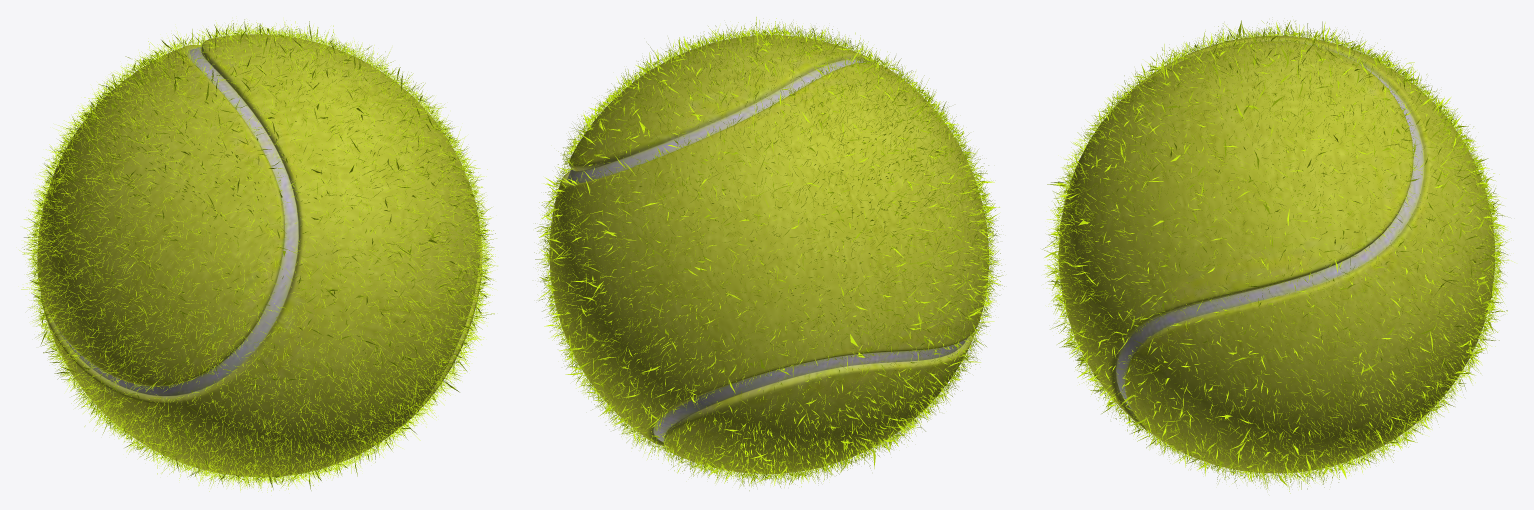
File: ball_fuzz_0.06.glb
3 renders of one model, left to right at view 1: azimuth 30°, elevation 25°; view 2: azimuth 150°, elevation 25°; view 3: azimuth 270°, elevation 25°, orthographic.
Parts seen in each view (by area): view 1: Object_2; view 2: Object_2; view 3: Object_2.
Boxes of the visible parts, x1,y1,x2,y2 form: Object_2: (19,19,497,492); Object_2: (534,17,1004,490); Object_2: (1042,20,1514,493).
Bounding box in the file's own units: 0.067 × 0.0664 × 0.0667.
2 materials, 1 textured.
